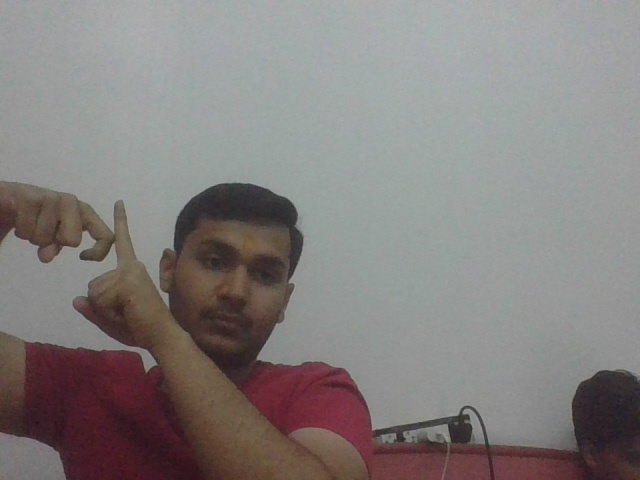K: (67, 190, 146, 284)
